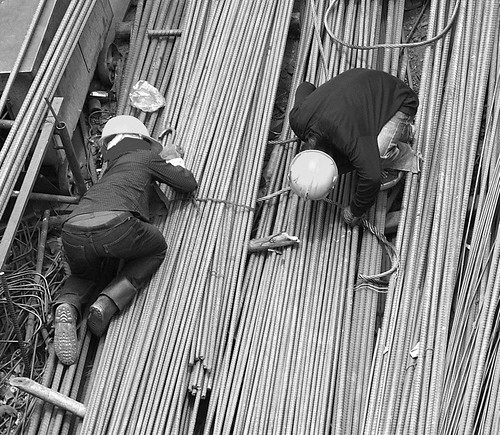hardhat: (53, 112, 192, 359), (289, 82, 422, 237)
